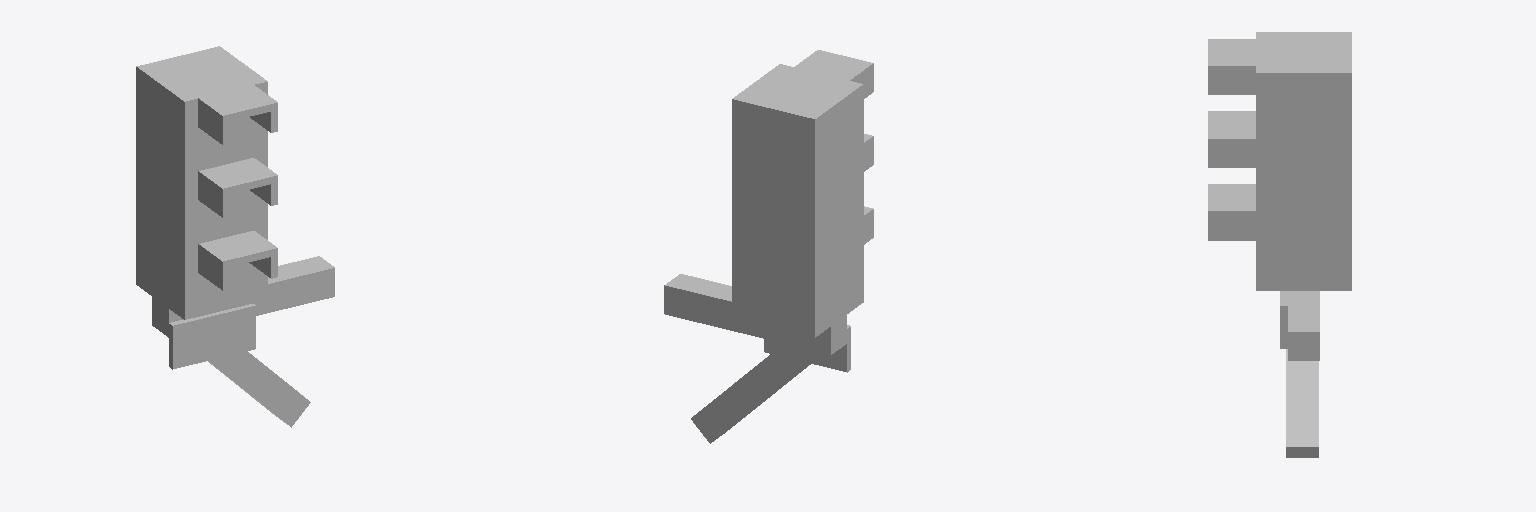
Rendered from signal_light_3_wall_right.obj.
The picture shows the model from 3 angles: view 1: azimuth 30°, elevation 25°; view 2: azimuth 150°, elevation 25°; view 3: azimuth 270°, elevation 25°; orthographic projection.
Parts seen in each view (by area): view 1: cube; view 2: cube; view 3: cube.
Boxes of the visible parts, x1,y1,x2,y2 form: cube: [136, 46, 334, 427]; cube: [664, 50, 873, 443]; cube: [1208, 32, 1351, 457].
Bounding box in the file's own units: 0.75 × 1.57 × 0.5625.